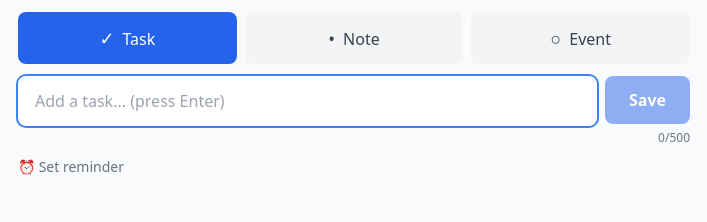
Test: EntryInput › should clear error when typing
Type "Test" into the field with placeholder "Add a task... (press Enter)" at (308, 101), box [18, 76, 597, 126]
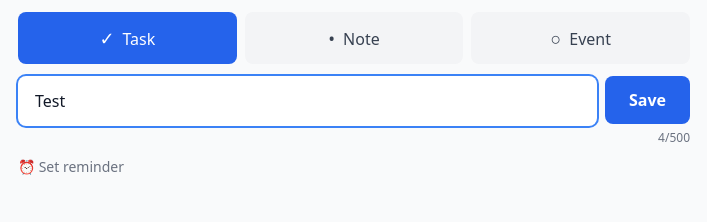
Click the button "Save" at (648, 100), box [605, 76, 690, 124]
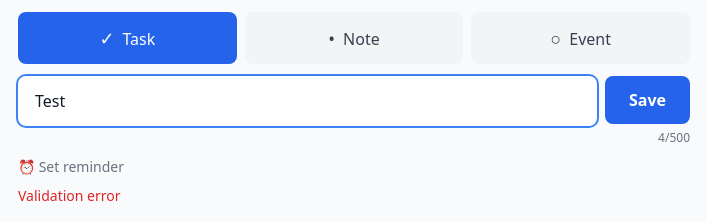
Result: the text "Validation error" is shown at [18, 186, 120, 205]
// Type to clear error
Replace the text in the field with placeholder "Add a task... (press Enter)" with "New value" at (308, 101), box [18, 76, 597, 126]
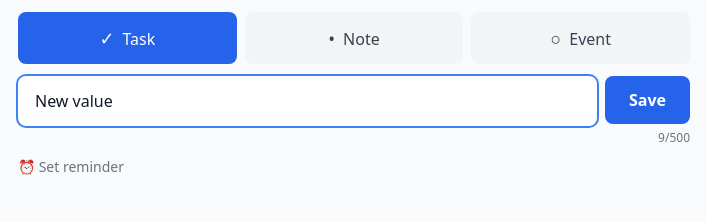
Result: the text "Validation error" is gone
